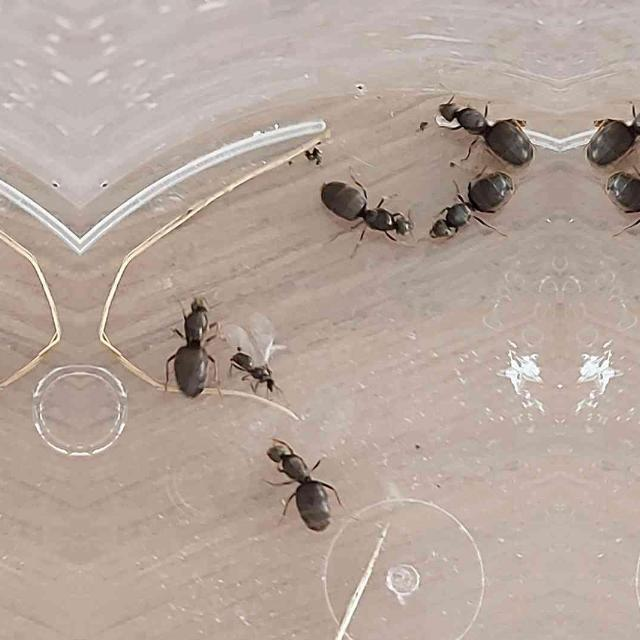Formica: (422, 81, 544, 179), (310, 166, 428, 264), (254, 425, 348, 537), (408, 172, 534, 238), (160, 288, 216, 430), (572, 81, 640, 179), (221, 312, 287, 396), (584, 172, 640, 238)
